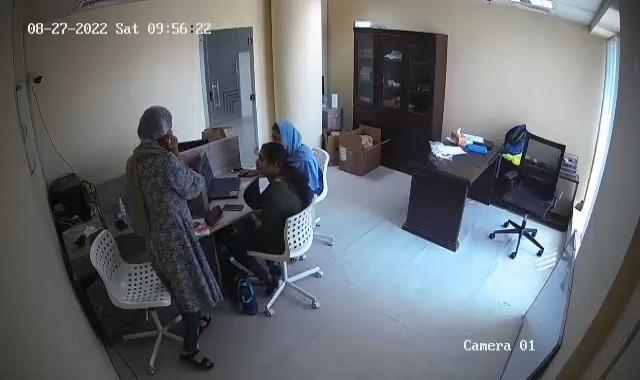hairnet: (137, 106, 176, 148)
no_hairnet: (253, 144, 291, 176), (270, 118, 298, 148)
